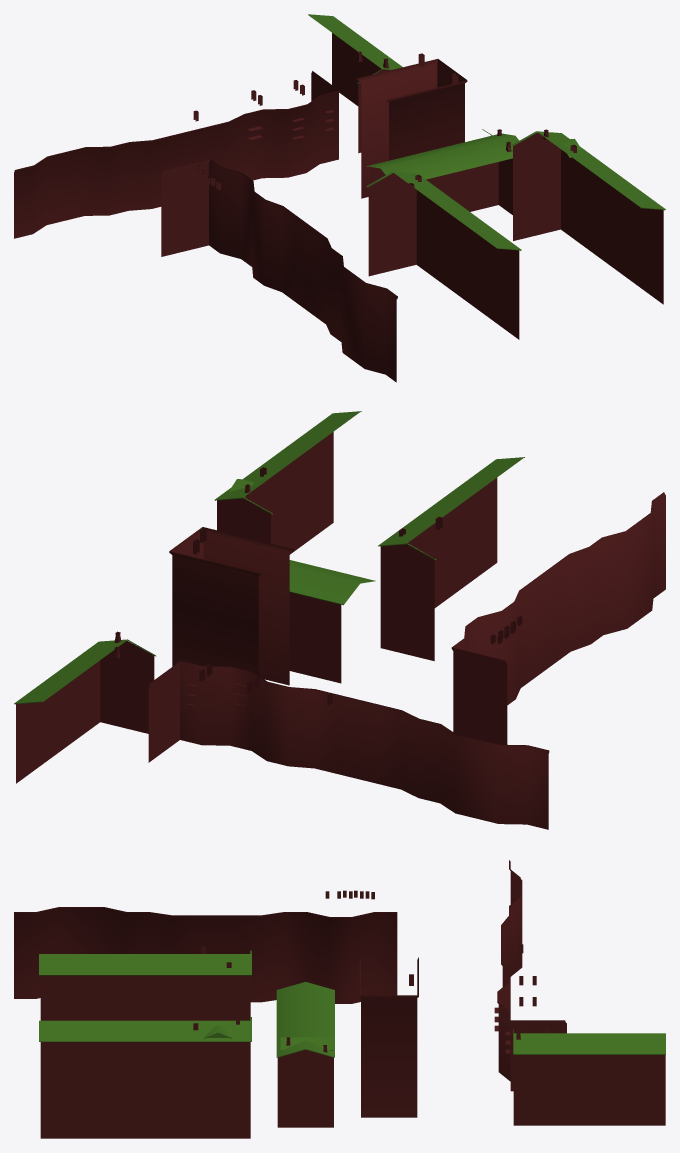
The model's file is Background Buildings.FBX.
3 views of the same model, one above another, from view 1: azimuth 30°, elevation 25°; view 2: azimuth 150°, elevation 25°; view 3: azimuth 270°, elevation 25° (orthographic). The views are drawn at different scales.
Parts seen in each view (by area): view 1: Box1983, Box1978, Box1954, Box1977, Box1955, Object051, Box1961, Box1967, Object106, Object053, Object052; view 2: Box1978, Box1983, Box1955, Box1977, Box1967, Box1954, Box1961, Object106, Object053, Object051, Object052; view 3: Box1983, Box1954, Box1967, Box1977, Box1955, Object106, Object053, Box1961, Box1978, Object051, Object052, Object055.
Part boxes in pixels (bbox=[...]): Box1983: bbox=[161, 159, 397, 382]; Box1978: bbox=[14, 71, 339, 238]; Box1954: bbox=[513, 132, 663, 304]; Box1977: bbox=[368, 173, 519, 339]; Box1955: bbox=[357, 59, 467, 198]; Object051: bbox=[366, 133, 519, 179]; Box1961: bbox=[370, 158, 512, 214]; Box1967: bbox=[332, 33, 389, 153]; Object106: bbox=[366, 171, 521, 250]; Object053: bbox=[511, 131, 665, 210]; Object052: bbox=[308, 14, 402, 83]; Box1978: bbox=[148, 660, 549, 829]; Box1983: bbox=[451, 492, 665, 744]; Box1955: bbox=[169, 527, 294, 685]; Box1977: bbox=[380, 478, 497, 661]; Box1967: bbox=[16, 641, 154, 783]; Box1954: bbox=[217, 432, 333, 554]; Box1961: bbox=[289, 592, 341, 683]; Object106: bbox=[378, 457, 524, 560]; Object053: bbox=[214, 411, 361, 514]; Object051: bbox=[289, 560, 375, 605]; Object052: bbox=[14, 639, 155, 704]; Box1983: bbox=[14, 907, 397, 1003]; Box1954: bbox=[40, 1042, 250, 1138]; Box1967: bbox=[513, 1055, 665, 1125]; Box1977: bbox=[40, 975, 250, 1020]; Box1955: bbox=[359, 957, 418, 1117]; Object106: bbox=[39, 950, 251, 975]; Object053: bbox=[39, 1017, 251, 1041]; Box1961: bbox=[277, 1049, 333, 1127]; Box1978: bbox=[497, 860, 566, 1091]; Object051: bbox=[276, 982, 334, 1057]; Object052: bbox=[513, 1029, 665, 1054]; Object055: bbox=[280, 1037, 332, 1050].
Bounding box in the file's own units: 315 × 94.22 × 413.
